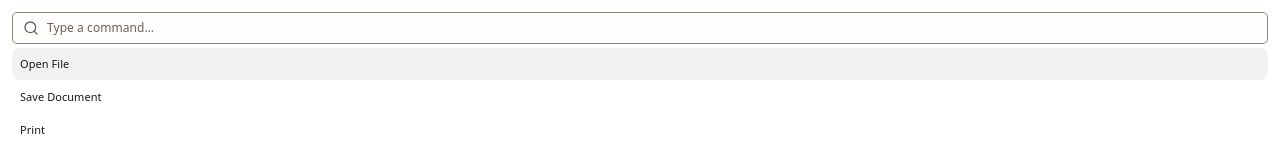
Test: Command › typing filters items
The width and height of the screenshot is (1280, 160).
Type "open" into the dropdown with placeholder "Type a command…" at (652, 28), box [47,19,1257,37]
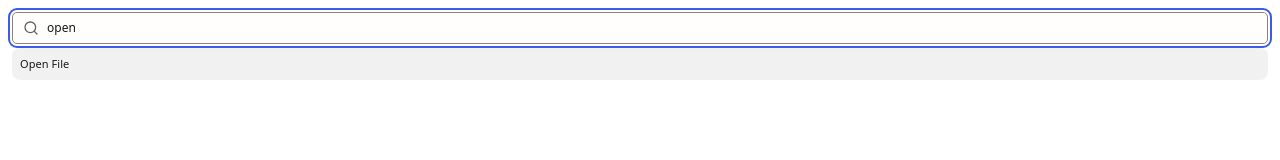
Check: the option "Open File" is shown, box [12,48,1268,80]
Check: the option "Save Document" is gone
Check: the option "Print" is gone
